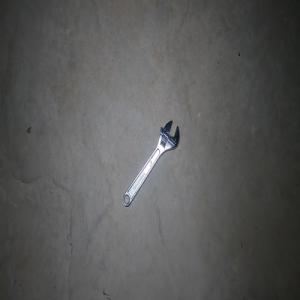Wrench: (122, 120, 179, 207)
